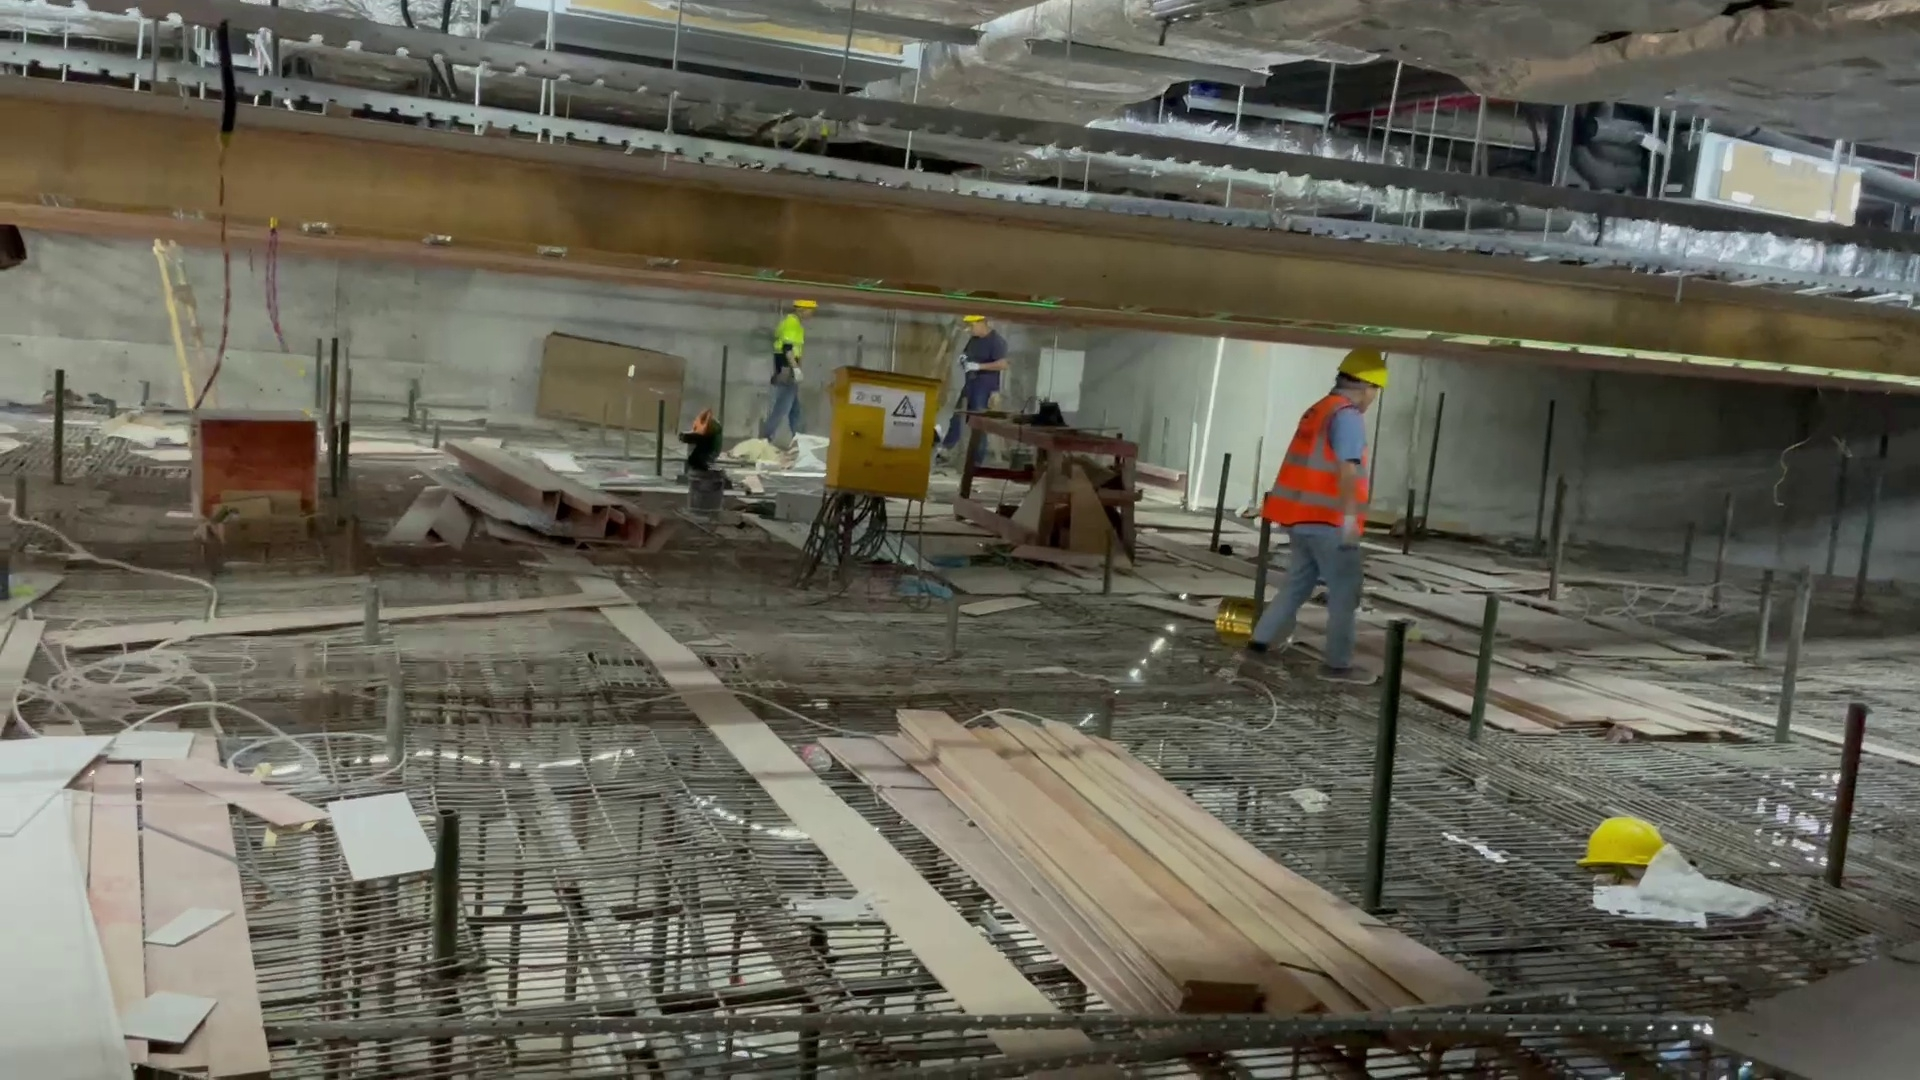board: (897, 688, 1278, 1043)
cutter: (971, 388, 1148, 551)
ebox: (806, 365, 956, 588)
helmet: (1581, 805, 1666, 874), (1338, 335, 1394, 393), (794, 294, 818, 311)
person: (1265, 322, 1371, 682), (941, 296, 1015, 504), (764, 277, 826, 446)
vest: (1268, 387, 1365, 533), (776, 308, 811, 361)
